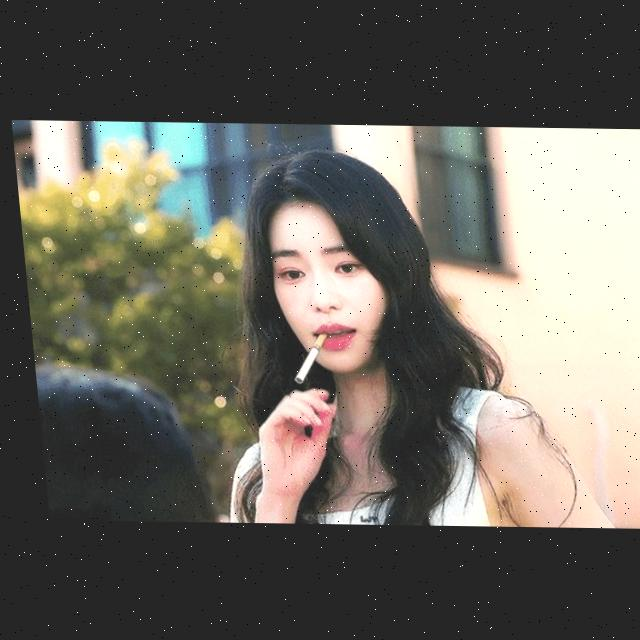cigarette: (283, 333, 324, 384)
